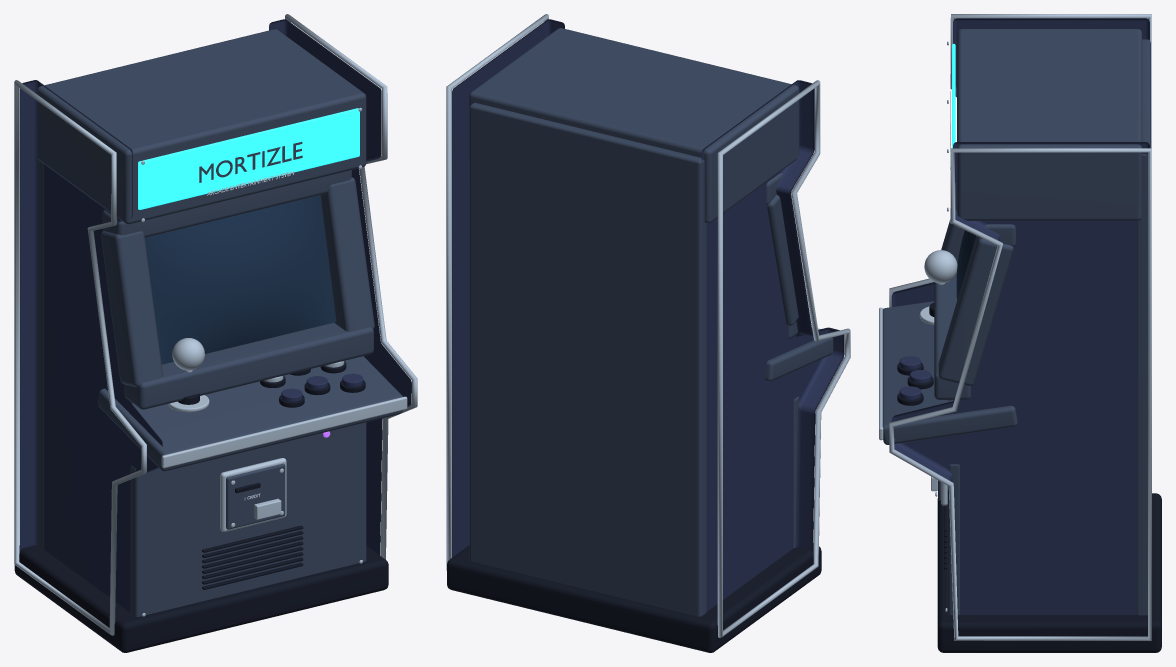
Rendered from midnight-cabinet.glb.
3 renders of one model, left to right at view 1: azimuth 30°, elevation 25°; view 2: azimuth 150°, elevation 25°; view 3: azimuth 270°, elevation 25°, orthographic.
Visible parts, largest first — view 1: mortizle-cabinet_Body, CRT_Surface; view 2: mortizle-cabinet_Body; view 3: mortizle-cabinet_Body, CRT_Surface.
Part boxes in pixels (x1,y1,x2,y2): mortizle-cabinet_Body: (14,14,417,652); CRT_Surface: (145,195,336,364); mortizle-cabinet_Body: (446,14,850,652); mortizle-cabinet_Body: (879,14,1161,652); CRT_Surface: (956,230,975,300).
Bounding box in the file's own units: 1.91 × 3.3 × 1.66.
